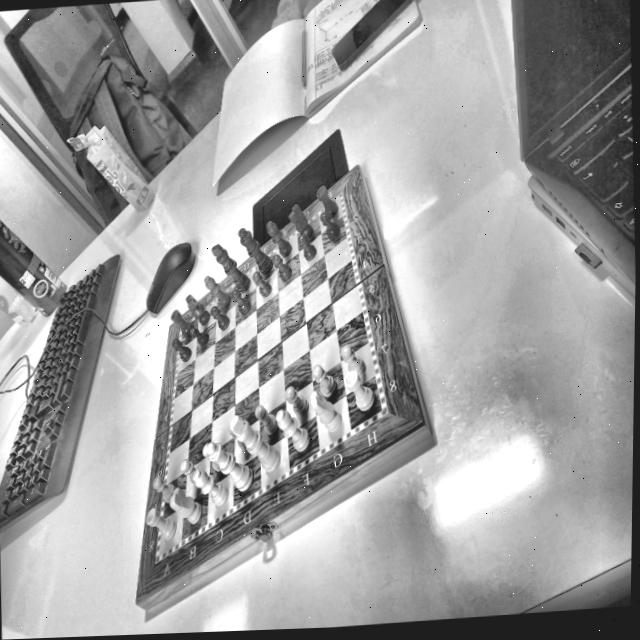black-bishop: (266, 217, 292, 260), (202, 275, 229, 309)
black-king: (210, 242, 249, 293)
black-knight: (286, 204, 312, 242), (187, 291, 208, 328)
black-pawn: (271, 250, 294, 285), (320, 210, 339, 248), (229, 285, 251, 317), (297, 231, 316, 263), (252, 268, 271, 300), (172, 339, 192, 366), (210, 306, 229, 332), (188, 325, 210, 347)
black-queen: (237, 222, 272, 274)
black-rook: (315, 183, 338, 219), (170, 305, 191, 338)
white-bishop: (189, 465, 231, 512), (273, 407, 310, 454)
white-king: (227, 412, 278, 478)
white-knight: (166, 484, 205, 530), (309, 390, 342, 437)
white-pawn: (217, 414, 245, 451), (308, 363, 336, 400), (282, 382, 309, 418), (253, 402, 278, 436), (196, 438, 220, 473), (341, 344, 364, 378), (150, 475, 173, 505), (178, 456, 197, 489)
white-queen: (206, 440, 253, 494)
white-rook: (342, 369, 378, 416), (145, 504, 174, 546)
